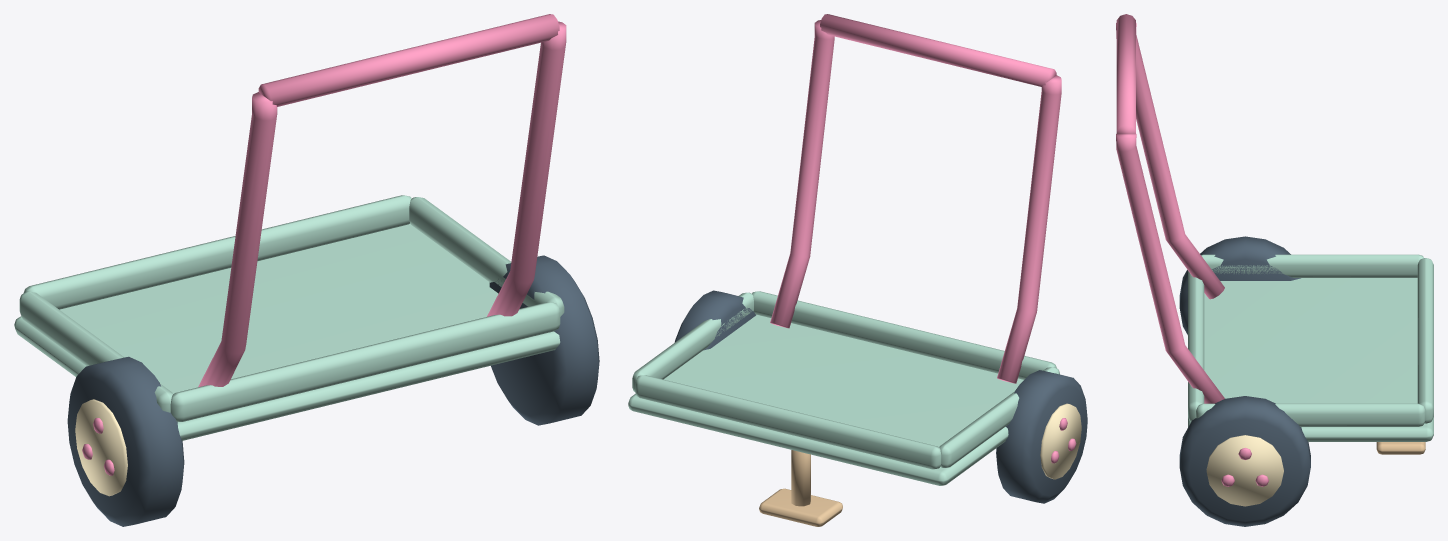
The model's file is cart.glb.
3 renders of one model, left to right at view 1: azimuth 30°, elevation 25°; view 2: azimuth 150°, elevation 25°; view 3: azimuth 270°, elevation 25°, orthographic. The views are drawn at different scales.
Visible parts, largest first — view 1: Body, Wheel_L, Wheel_R; view 2: Body, Wheel_L, Wheel_R; view 3: Body, Wheel_R, Wheel_L.
Boxes of the visible parts, box(x1,y1,x2,y2) form: Body: box(14, 14, 566, 440); Wheel_L: box(67, 356, 184, 526); Wheel_R: box(489, 255, 599, 425); Body: box(628, 14, 1061, 526); Wheel_L: box(996, 370, 1087, 503); Wheel_R: box(674, 290, 755, 350); Body: box(1116, 14, 1433, 454); Wheel_R: box(1179, 396, 1310, 526); Wheel_L: box(1179, 236, 1300, 334).
Bounding box in the file's own units: 1.06 × 1 × 0.775.
Materials: 5 (5 with a texture image).
